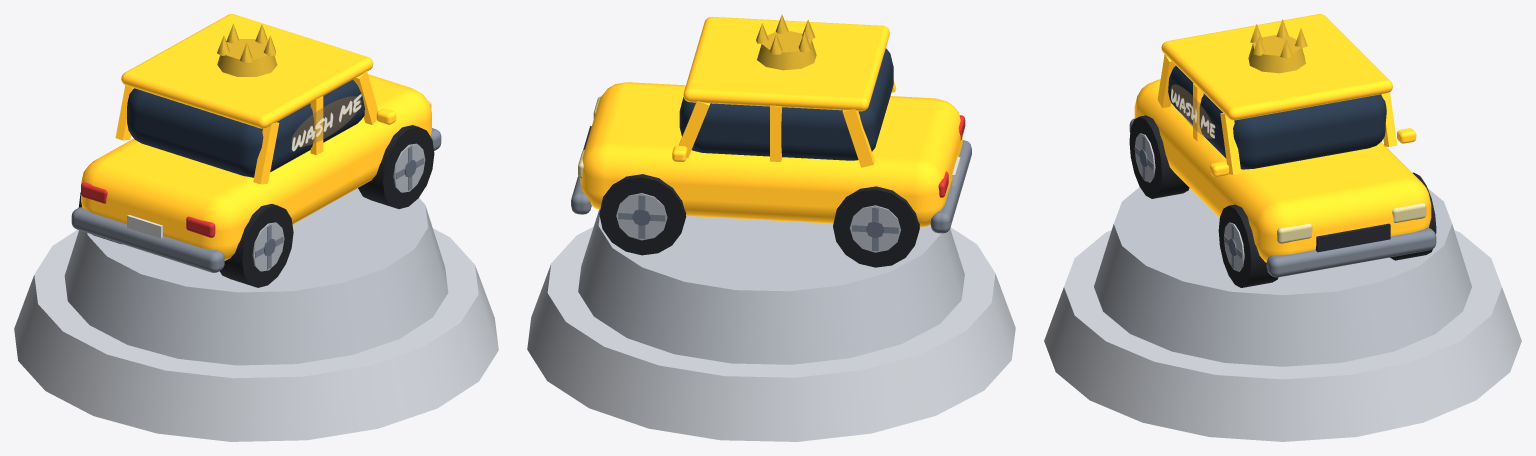
Rendered from landmark_goldcar.glb.
The picture shows the model from 3 angles, left to right: view 1: azimuth 30°, elevation 25°; view 2: azimuth 150°, elevation 25°; view 3: azimuth 270°, elevation 25°; orthographic projection. The views are drawn at different scales.
Parts seen in each view (by area): view 1: Landmark_goldcar, Paint, Trim, Wheel0, Wheel1, WashMe; view 2: Landmark_goldcar, Paint, Trim, Wheel2, Wheel3; view 3: Landmark_goldcar, Paint, Trim, Wheel1, Wheel0, WashMe.
Part boxes in pixels (x1,y1,x2,y2): Landmark_goldcar: (14, 188, 498, 441); Paint: (81, 14, 431, 260); Trim: (71, 24, 441, 272); Wheel0: (358, 125, 434, 208); Wheel1: (219, 204, 293, 287); WashMe: (291, 94, 361, 151); Landmark_goldcar: (527, 209, 1015, 441); Paint: (580, 16, 962, 227); Trim: (571, 14, 971, 233); Wheel2: (599, 174, 686, 255); Wheel3: (833, 186, 919, 267); Landmark_goldcar: (1044, 187, 1521, 441); Paint: (1134, 14, 1431, 262); Trim: (1129, 19, 1436, 277); Wheel1: (1129, 115, 1189, 198); Wheel0: (1218, 204, 1278, 287); WashMe: (1171, 84, 1215, 138).
Bounding box in the file's own units: 4.8 × 3.4 × 4.8.
8 materials, 1 textured.
